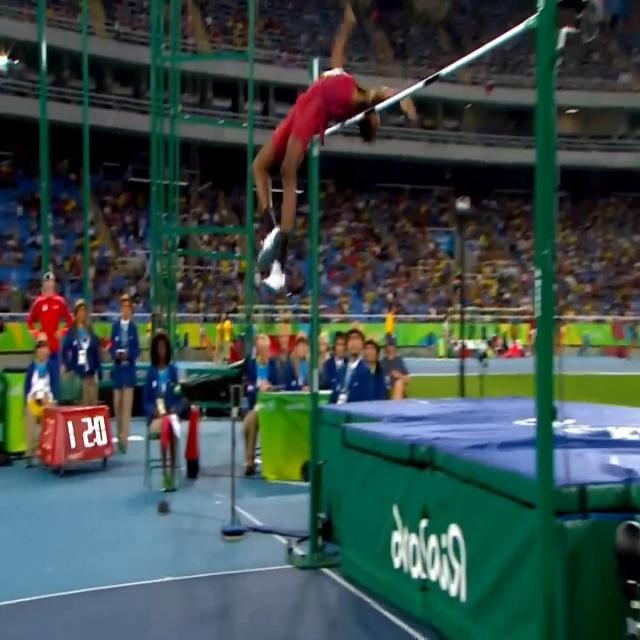jump: (250, 0, 420, 299)
